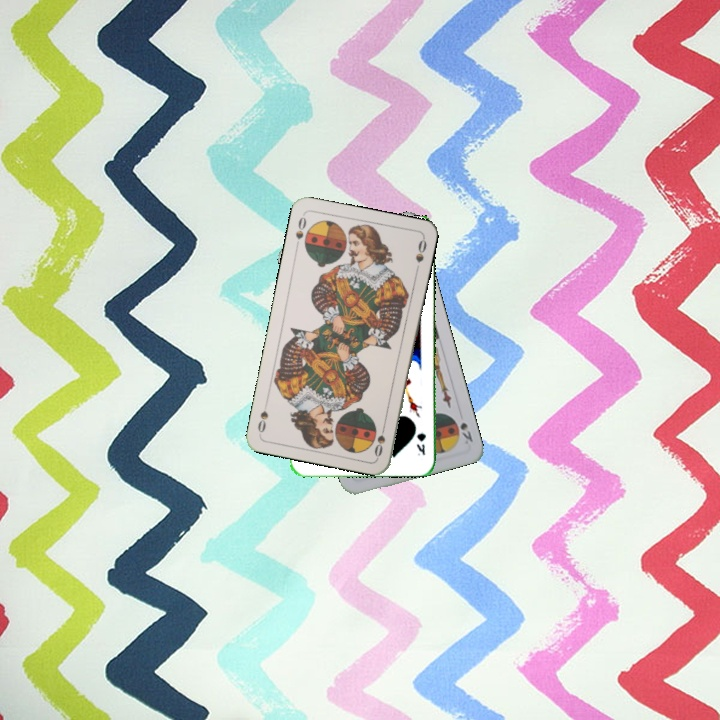GK: (412, 427, 428, 458)
SK: (451, 416, 475, 445)
SO: (370, 419, 388, 459), (291, 211, 309, 251)
